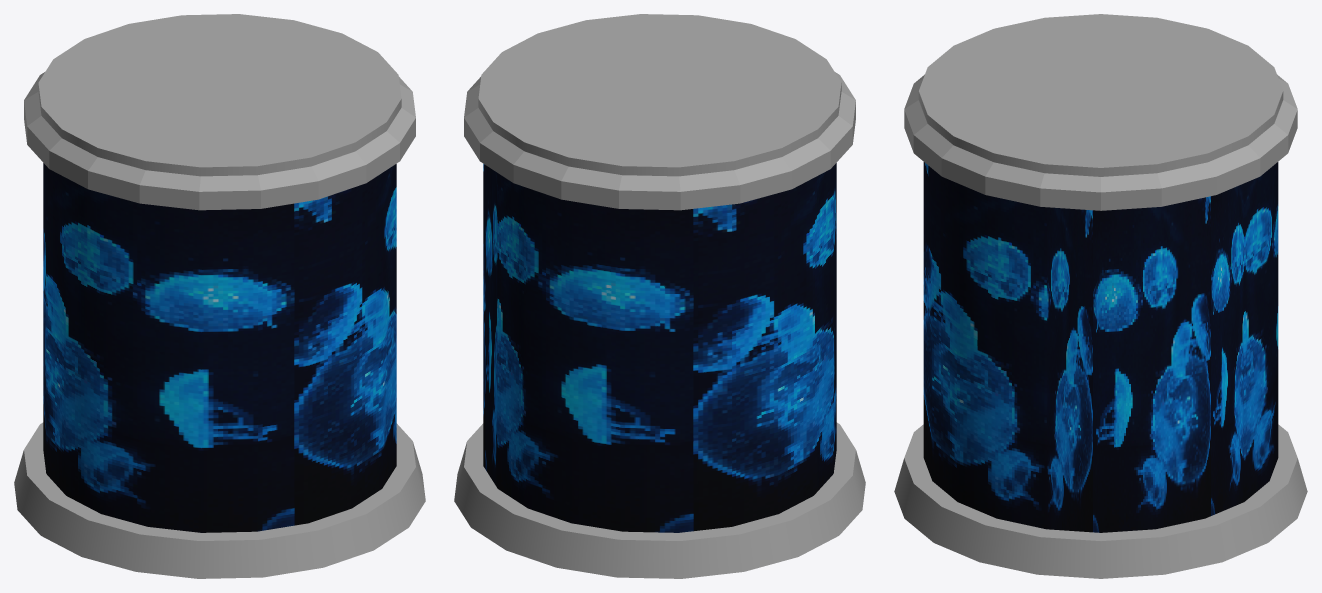
The model's file is quallen.glb.
3 renders of one model, left to right at view 1: azimuth 30°, elevation 25°; view 2: azimuth 150°, elevation 25°; view 3: azimuth 270°, elevation 25°, orthographic.
Visible parts, largest first — view 1: jellyFish, tank; view 2: jellyFish, tank; view 3: jellyFish, tank.
Part boxes in pixels (<box>): jellyFish: <box>43,163,396,532</box>; tank: <box>14,14,425,578</box>; jellyFish: <box>483,163,836,532</box>; tank: <box>454,14,865,578</box>; jellyFish: <box>923,162,1278,532</box>; tank: <box>894,14,1307,578</box>.
Bounding box in the file's own units: 0.15 × 0.1604 × 0.15.
2 materials, 1 textured.
